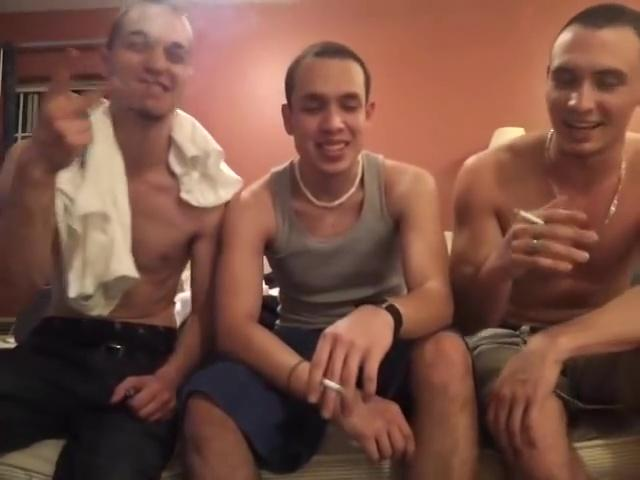cigarette: (513, 205, 545, 226), (316, 378, 347, 394)
